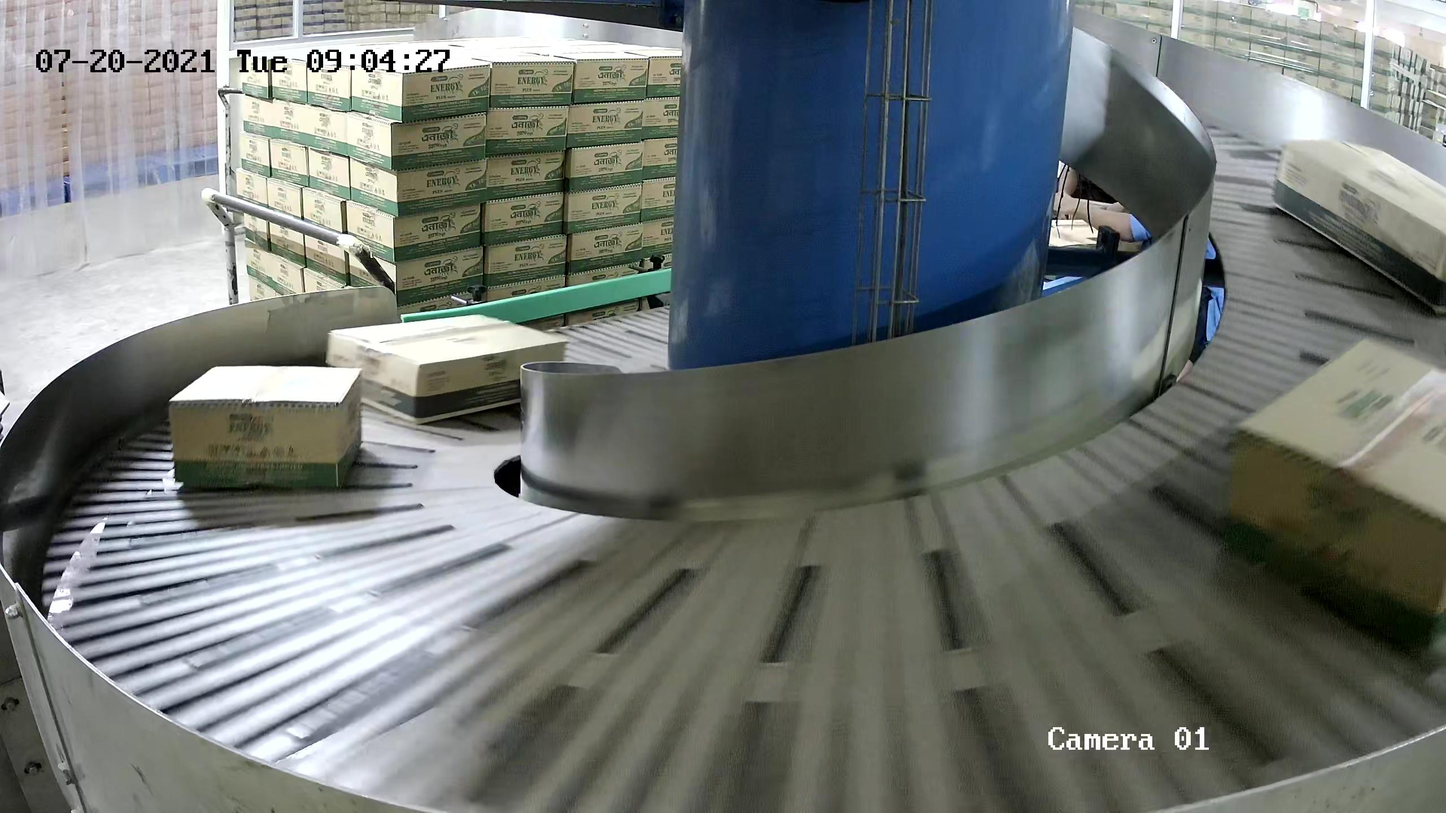Box: (1209, 332, 1446, 664), (322, 309, 569, 430), (166, 362, 373, 493)
